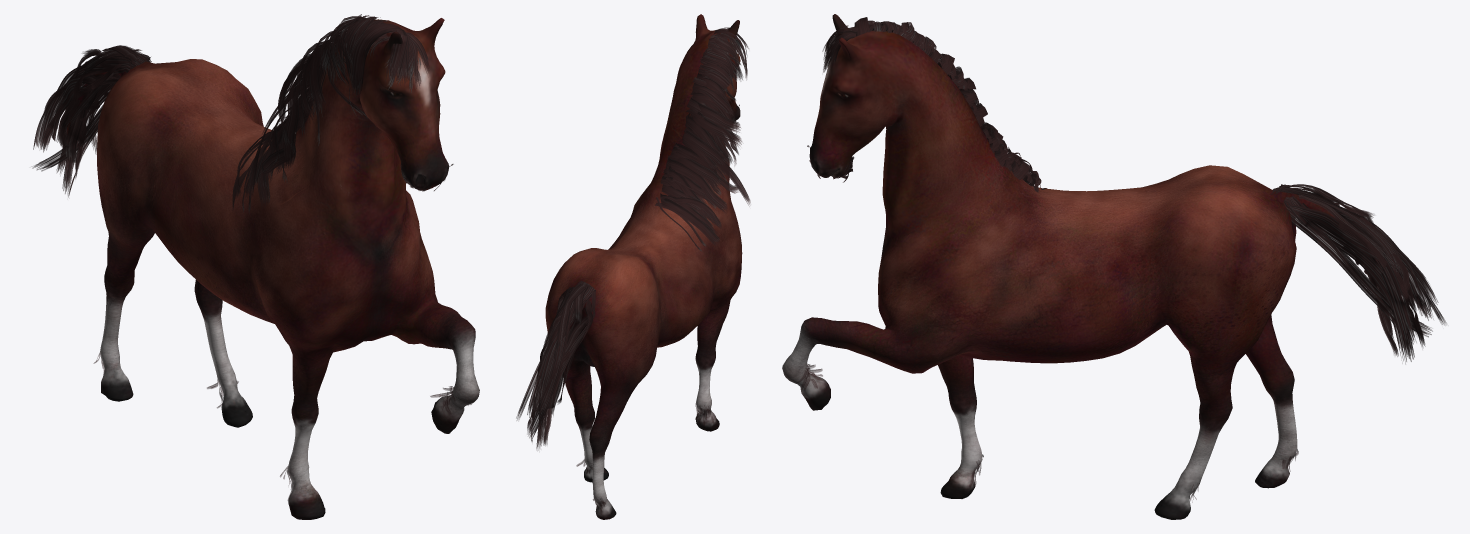
The model's file is horse.glb.
The picture shows the model from 3 angles, left to right: view 1: azimuth 30°, elevation 25°; view 2: azimuth 150°, elevation 25°; view 3: azimuth 270°, elevation 25°; orthographic projection. The views are drawn at different scales.
Visible parts, largest first — view 1: Object_2, Object_3, Object_4; view 2: Object_2, Object_3, Object_4; view 3: Object_2, Object_3, Object_4.
Part boxes in pixels (<box>): Object_2: <box>67,18,479,519</box>; Object_3: <box>31,16,471,500</box>; Object_4: <box>234,14,441,213</box>; Object_2: <box>545,14,742,519</box>; Object_3: <box>516,27,750,514</box>; Object_4: <box>655,28,747,246</box>; Object_2: <box>782,14,1380,519</box>; Object_3: <box>797,17,1446,502</box>; Object_4: <box>817,20,1038,192</box>.
Bounding box in the file's own units: 5.53 × 16.48 × 20.43.
2 materials, 2 textured.
